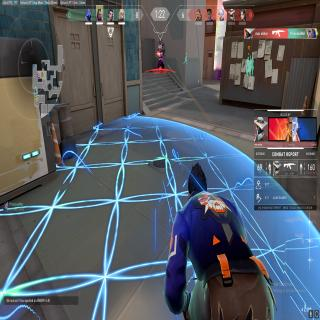ENEMY-BODY: (156, 45, 164, 74)
ENEMY-HEAD: (158, 44, 162, 50)
